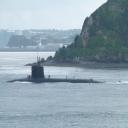submarine: (8, 51, 103, 84)
